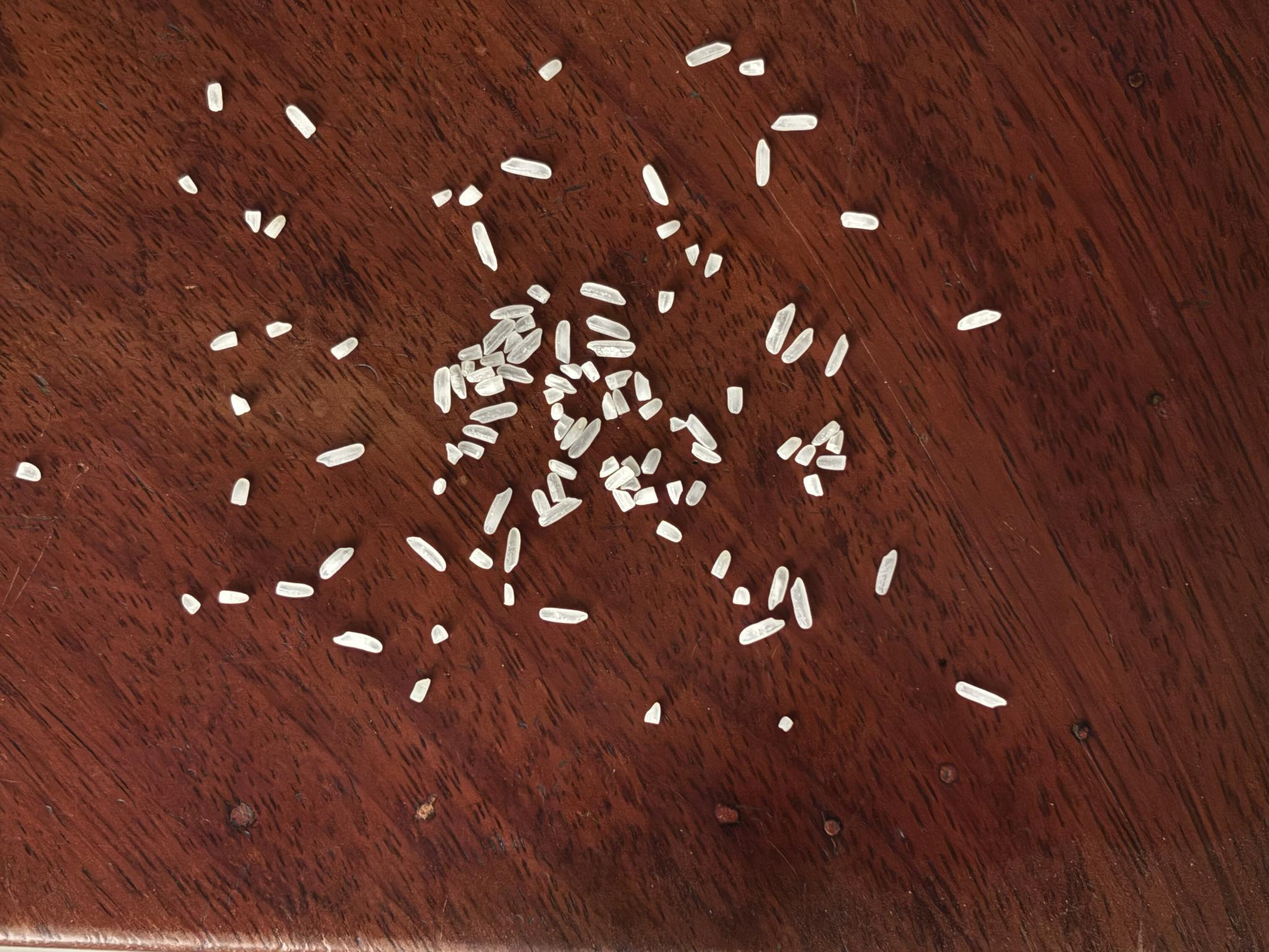Rice-th-y-nh: (762, 301, 799, 355), (501, 149, 552, 186), (738, 611, 785, 651), (784, 578, 819, 630), (954, 679, 1007, 712), (579, 275, 626, 312), (586, 331, 637, 365), (538, 492, 582, 531), (481, 487, 514, 536), (568, 416, 603, 461), (957, 303, 1002, 338), (406, 535, 448, 572), (780, 325, 816, 368), (770, 107, 818, 139), (871, 549, 902, 597), (821, 333, 853, 379), (763, 565, 795, 611), (538, 601, 588, 630), (748, 139, 777, 187), (470, 221, 498, 270), (508, 328, 544, 366), (684, 413, 720, 451), (498, 527, 527, 573), (586, 313, 632, 342), (685, 40, 731, 68), (640, 163, 669, 207), (841, 205, 879, 238), (549, 320, 577, 364), (469, 400, 518, 425), (318, 547, 354, 580), (336, 629, 383, 654), (481, 318, 515, 352), (317, 444, 365, 466), (559, 415, 588, 451), (490, 299, 534, 322), (810, 418, 841, 449), (287, 105, 316, 138), (604, 365, 634, 393), (708, 549, 734, 581), (630, 370, 655, 403), (604, 465, 634, 492), (690, 440, 721, 466), (545, 470, 569, 503), (433, 367, 450, 413), (683, 478, 709, 508), (461, 423, 498, 444), (544, 372, 577, 395), (529, 488, 554, 518), (639, 447, 664, 477), (816, 450, 847, 474), (776, 435, 803, 462), (724, 384, 747, 415), (655, 519, 683, 544), (547, 458, 577, 481), (475, 375, 506, 397), (611, 488, 637, 514), (637, 396, 663, 421), (794, 442, 819, 468), (449, 365, 468, 399), (276, 581, 314, 598), (553, 413, 576, 441), (801, 473, 826, 498), (825, 430, 849, 456), (633, 484, 659, 508), (654, 289, 678, 315), (655, 218, 682, 241), (739, 56, 766, 79), (599, 392, 620, 421), (331, 337, 358, 359), (663, 478, 685, 505), (611, 388, 632, 416), (620, 454, 644, 478), (469, 547, 494, 570), (409, 677, 431, 703), (703, 252, 724, 279), (539, 59, 563, 82), (459, 184, 483, 207), (467, 365, 495, 384), (457, 440, 485, 459), (580, 359, 602, 383), (731, 584, 753, 608), (210, 331, 237, 350), (15, 462, 42, 481), (264, 215, 286, 238), (527, 283, 551, 304), (231, 478, 249, 505), (599, 457, 620, 480), (559, 361, 583, 381), (643, 702, 663, 726), (481, 351, 507, 369), (207, 83, 223, 112), (542, 386, 565, 406), (683, 243, 702, 267), (430, 624, 450, 646), (503, 332, 523, 354), (218, 590, 249, 604), (458, 344, 483, 361), (515, 313, 536, 333), (182, 593, 201, 615), (231, 394, 250, 415), (432, 189, 453, 208), (244, 210, 262, 232), (266, 322, 292, 337), (501, 583, 517, 607), (178, 175, 198, 194), (668, 414, 687, 434), (445, 443, 463, 464), (777, 715, 794, 733), (432, 478, 448, 496), (550, 402, 564, 421), (461, 360, 476, 376)
